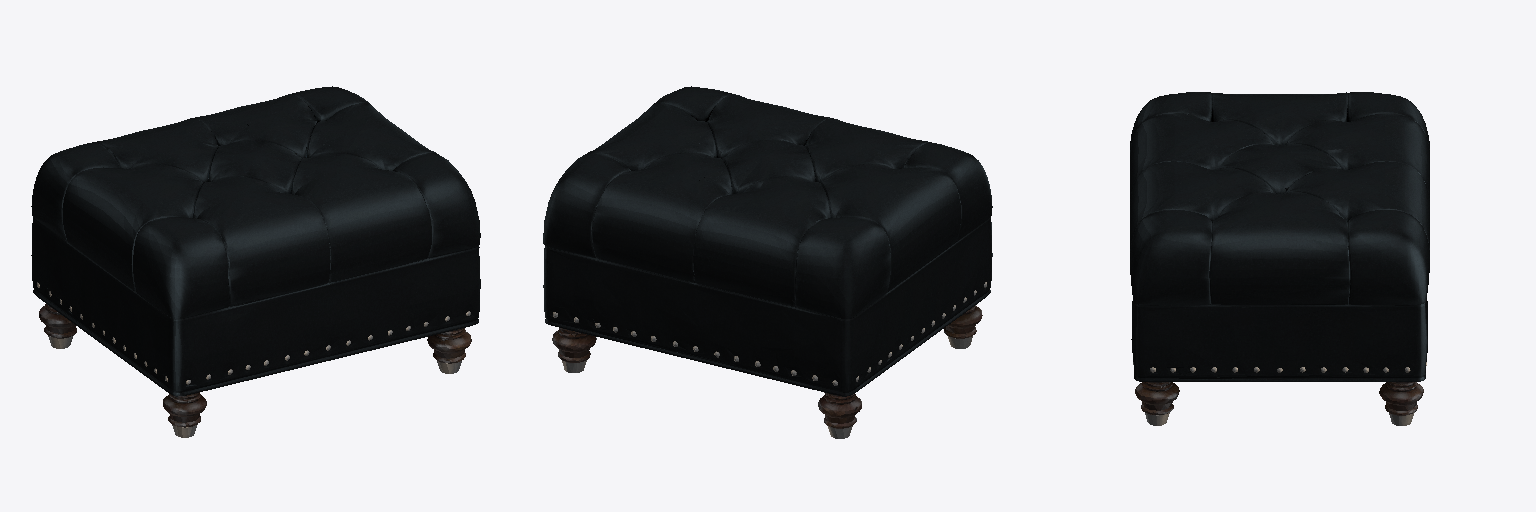
3 views of the same model, side by side, from view 1: azimuth 30°, elevation 25°; view 2: azimuth 150°, elevation 25°; view 3: azimuth 270°, elevation 25° (orthographic).
Parts seen in each view (by area): view 1: solid_002, solid_003, solid_001; view 2: solid_002, solid_003, solid_001; view 3: solid_002, solid_003, solid_001.
Part boxes in pixels (left/top/right/bottom): solid_002: left=31, top=86, right=480, bottom=396; solid_003: left=39, top=304, right=471, bottom=427; solid_001: left=37, top=282, right=470, bottom=437; solid_002: left=543, top=86, right=992, bottom=396; solid_003: left=552, top=305, right=982, bottom=428; solid_001: left=553, top=282, right=986, bottom=438; solid_002: left=1130, top=92, right=1429, bottom=381; solid_003: left=1135, top=382, right=1423, bottom=415; solid_001: left=1133, top=362, right=1426, bottom=425.
Size of the model in its own units: 0.6512 by 0.3962 by 0.5328.
1 materials, 1 textured.